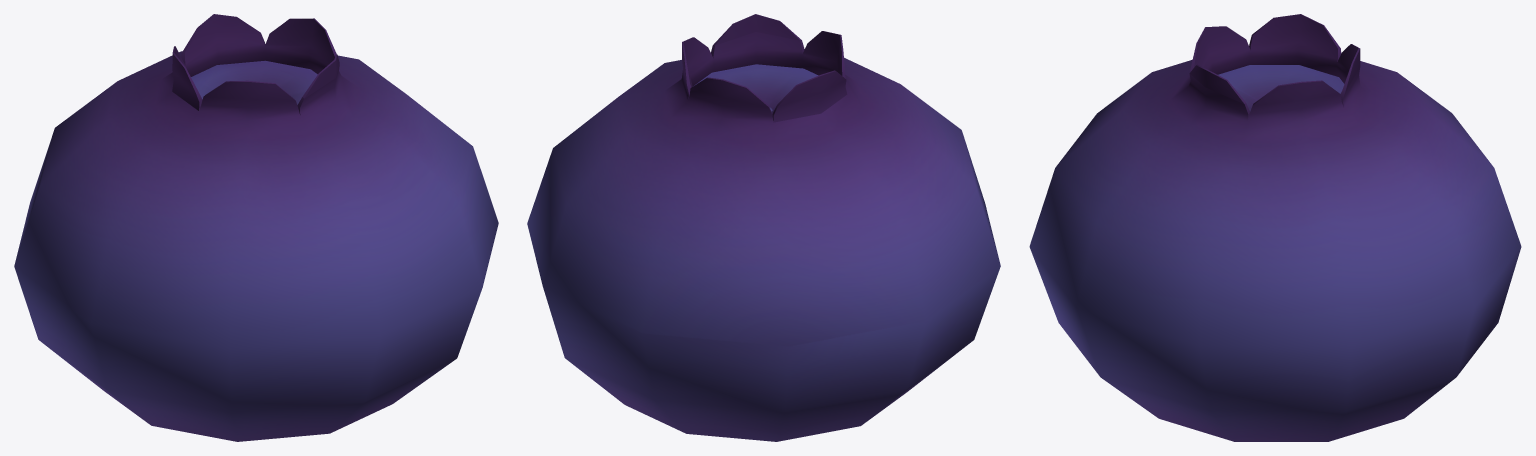
File: blueberries1.fbx
3 views of the same model, side by side, from view 1: azimuth 30°, elevation 25°; view 2: azimuth 150°, elevation 25°; view 3: azimuth 270°, elevation 25° (orthographic). The views are drawn at different scales.
Parts seen in each view (by area): view 1: 블루베리.005; view 2: 블루베리.005; view 3: 블루베리.005.
Boxes of the visible parts, x1=… form: 블루베리.005: x1=14, y1=14, x2=498, y2=441; 블루베리.005: x1=527, y1=14, x2=1000, y2=441; 블루베리.005: x1=1029, y1=14, x2=1521, y2=441.
Size of the model in its own units: 181 by 158 by 191.
